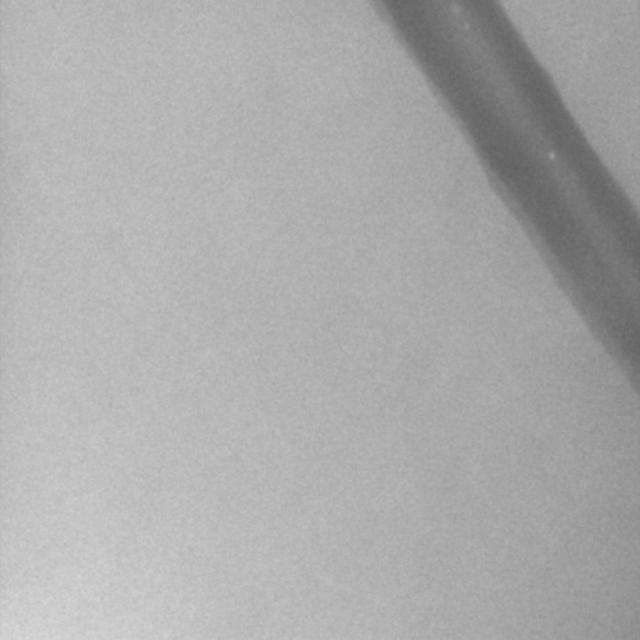air-hole: (462, 24, 474, 35), (452, 0, 460, 13), (548, 150, 556, 159)
